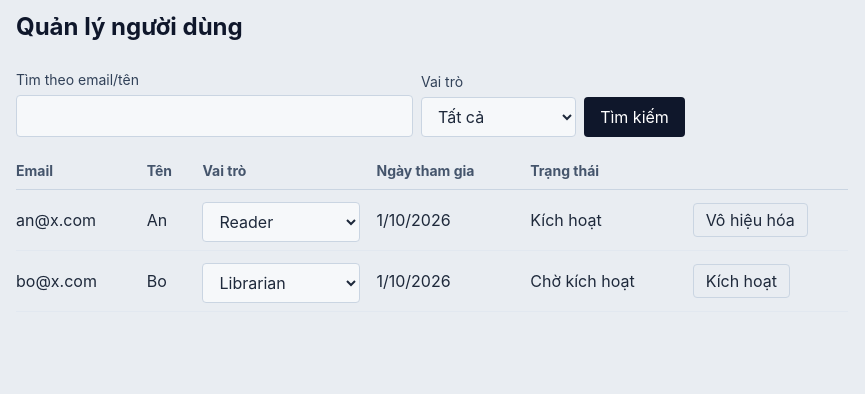
Test: Users › shows the server message when the update is refused
Click the button with aria-label "Vô hiệu hóa an@x.com" at (750, 220), box [693,203,808,237]
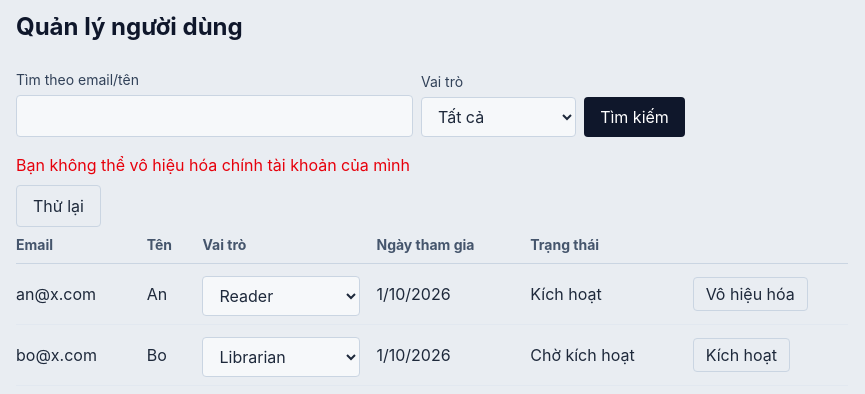
Expected: the message shows "chính tài khoản của mình", [16,155,410,175]
